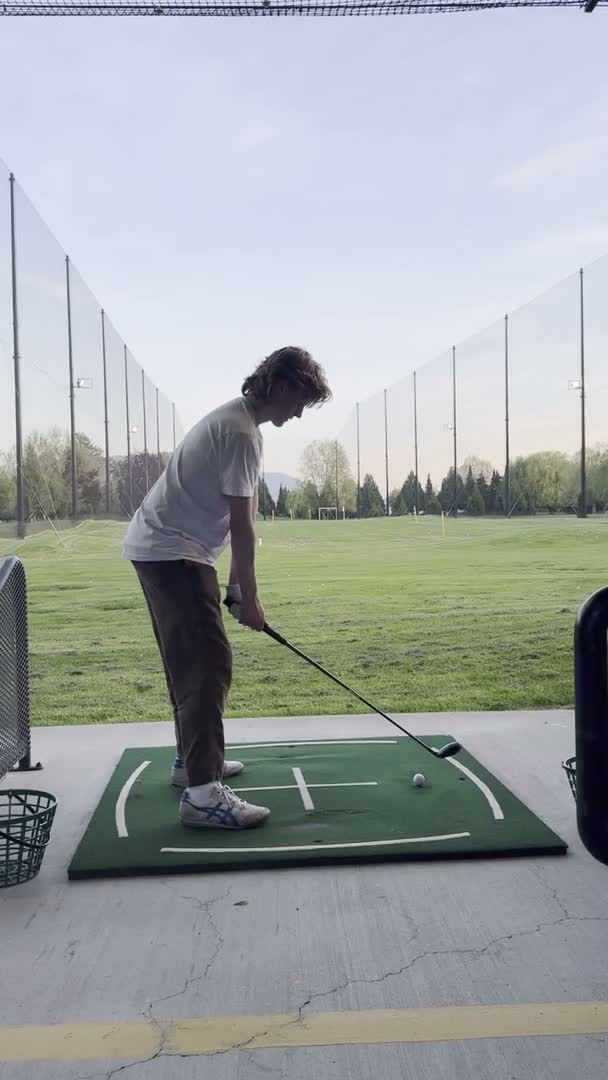Golf Ball: (411, 771, 428, 789)
